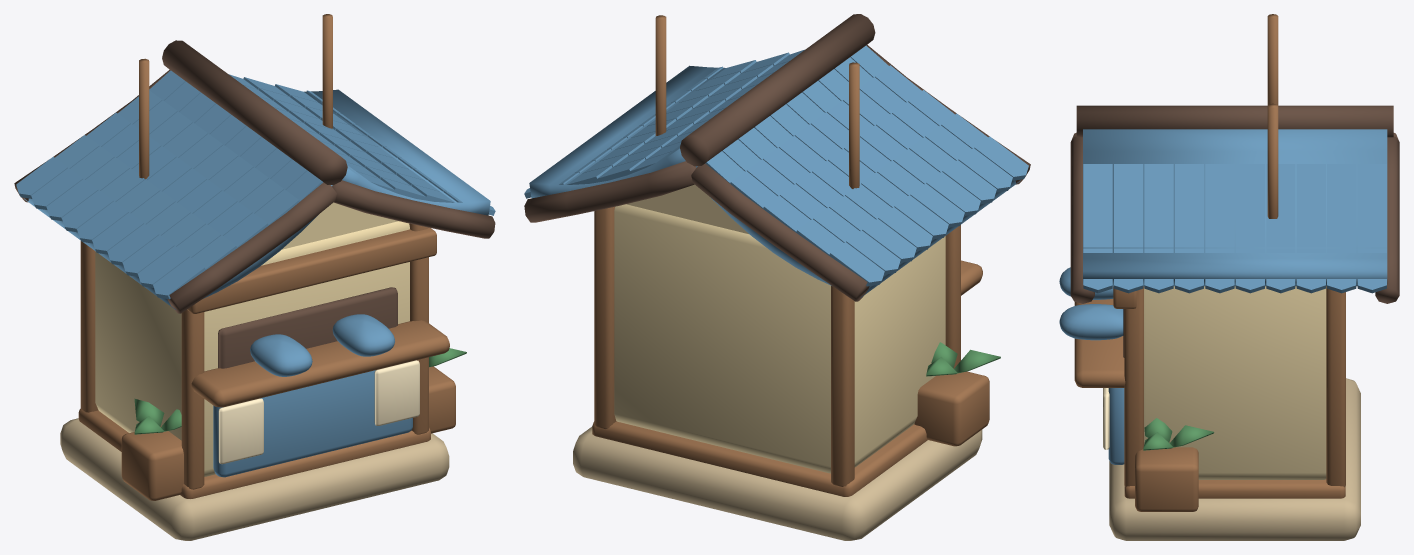
The model's file is booth_speed.glb.
3 renders of one model, left to right at view 1: azimuth 30°, elevation 25°; view 2: azimuth 150°, elevation 25°; view 3: azimuth 270°, elevation 25°, orthographic. The views are drawn at different scales.
Parts seen in each view (by area): view 1: booth_speed_crafted_mesh; view 2: booth_speed_crafted_mesh; view 3: booth_speed_crafted_mesh.
Boxes of the visible parts, left/top/right/bottom form: booth_speed_crafted_mesh: left=14, top=14, right=495, bottom=540; booth_speed_crafted_mesh: left=524, top=14, right=1030, bottom=540; booth_speed_crafted_mesh: left=1059, top=14, right=1399, bottom=540.
Size of the model in its own units: 2.57 by 3.05 by 2.24.
